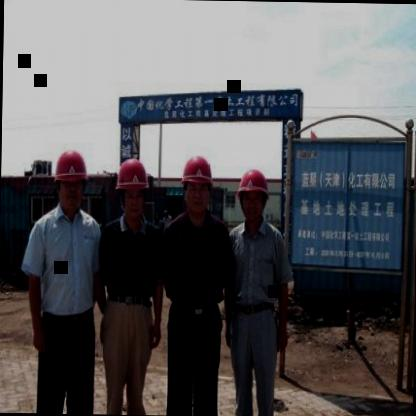helmet: (113, 157, 152, 226), (52, 145, 90, 214), (179, 150, 215, 218), (236, 164, 270, 228)
